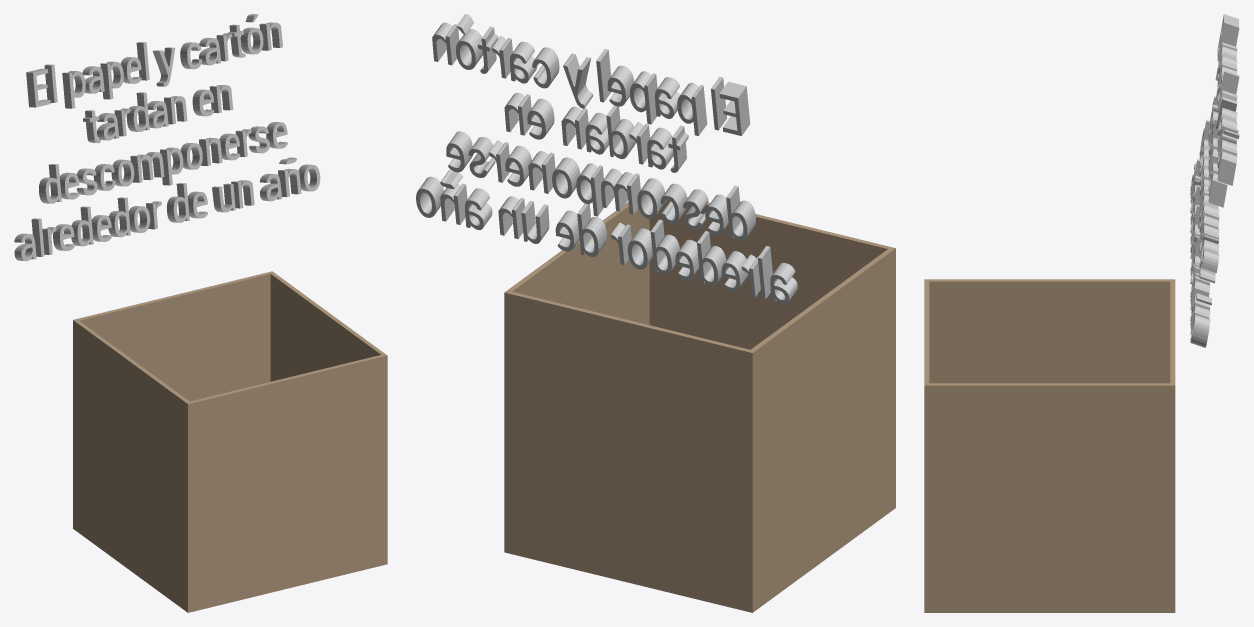
The model's file is asset.glb.
The picture shows the model from 3 angles, left to right: view 1: azimuth 30°, elevation 25°; view 2: azimuth 150°, elevation 25°; view 3: azimuth 270°, elevation 25°; orthographic projection. The views are drawn at different scales.
Parts seen in each view (by area): view 1: Mesh_Mesh_head_geo.001_lambert2SG.001; view 2: Mesh_Mesh_head_geo.001_lambert2SG.001; view 3: Mesh_Mesh_head_geo.001_lambert2SG.001.
Part boxes in pixels (left/top/right/bottom): Mesh_Mesh_head_geo.001_lambert2SG.001: left=14, top=14, right=387, bottom=612; Mesh_Mesh_head_geo.001_lambert2SG.001: left=416, top=14, right=895, bottom=612; Mesh_Mesh_head_geo.001_lambert2SG.001: left=924, top=14, right=1239, bottom=612.
Bounding box in the file's own units: 75 × 107 × 62.78.
